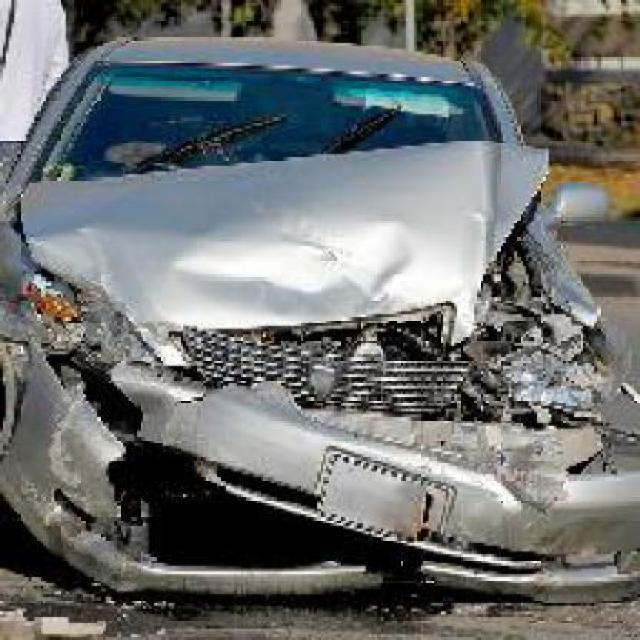damaged-front-bumper: (12, 363, 638, 591)
damaged-head-light: (0, 249, 106, 354)
damaged-hood: (29, 136, 560, 339)
